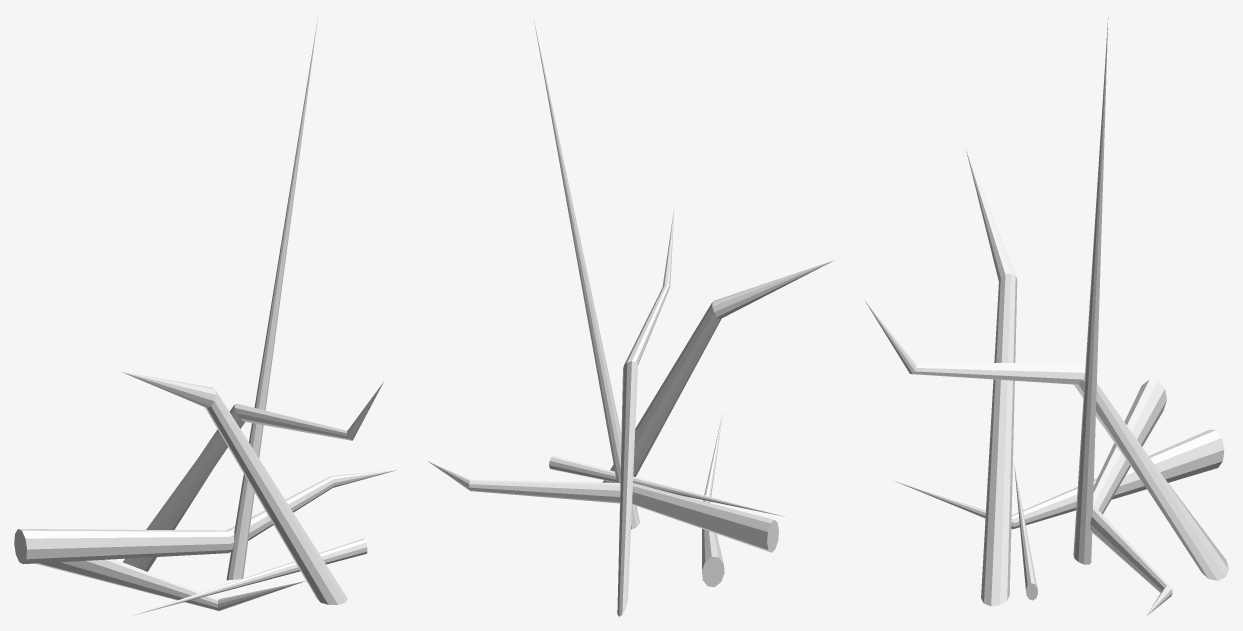
The model's file is ramas5.fbx.
The picture shows the model from 3 angles, left to right: view 1: azimuth 30°, elevation 25°; view 2: azimuth 150°, elevation 25°; view 3: azimuth 270°, elevation 25°; orthographic projection. The views are drawn at different scales.
Parts seen in each view (by area): view 1: ramas9; view 2: ramas9; view 3: ramas9.
Part boxes in pixels (x1=…): ramas9: x1=14, y1=18, x2=397, y2=616; ramas9: x1=428, y1=17, x2=834, y2=616; ramas9: x1=865, y1=17, x2=1228, y2=616.
Bounding box in the file's own units: 329 × 481 × 248.
